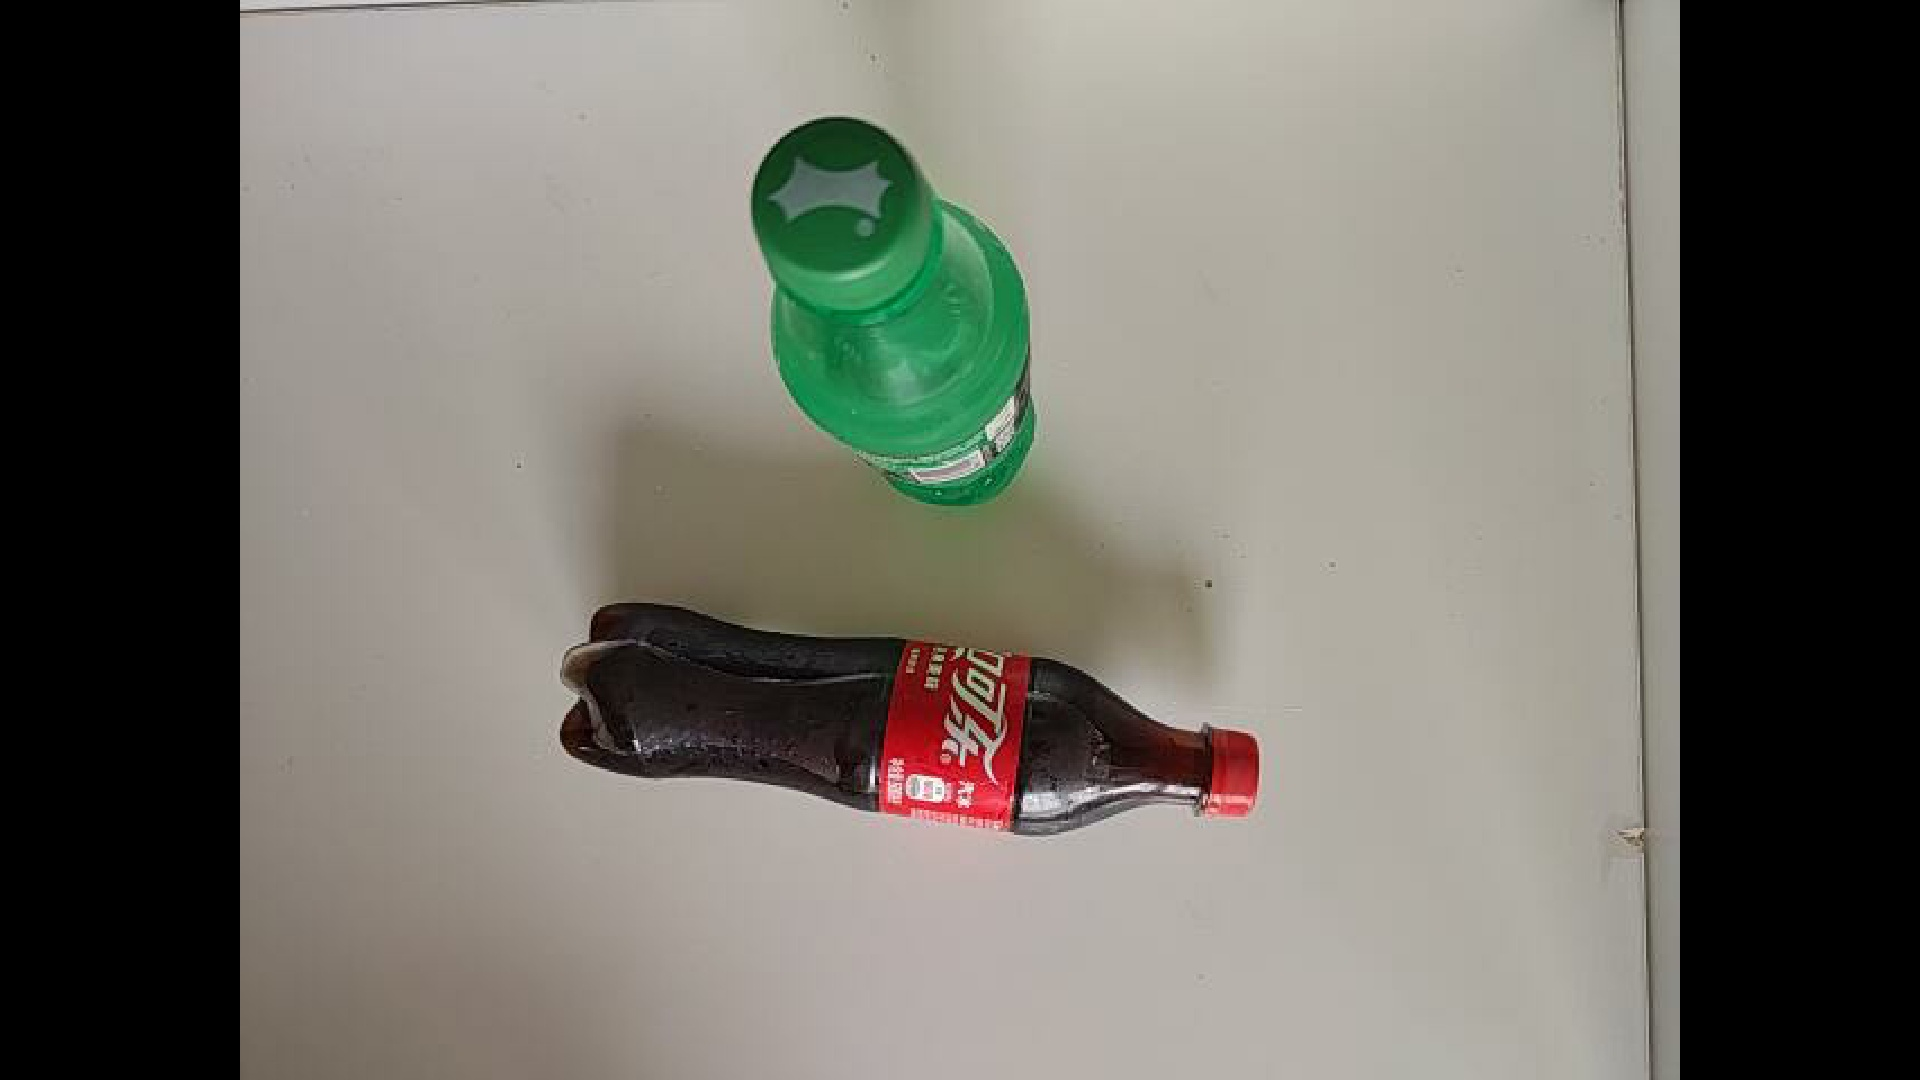cola: (526, 588, 1274, 825)
sprite: (748, 116, 1038, 509)
